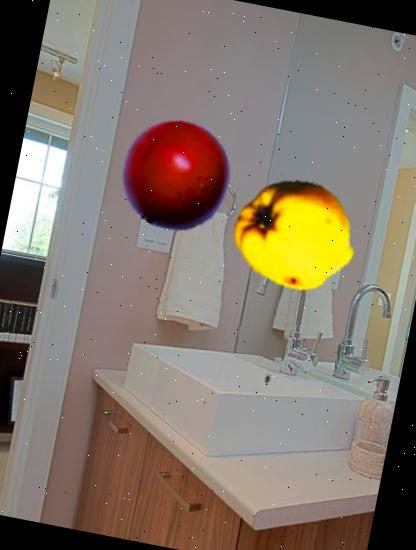Quince: (225, 164, 366, 306)
Tamarillo: (111, 110, 242, 240)
